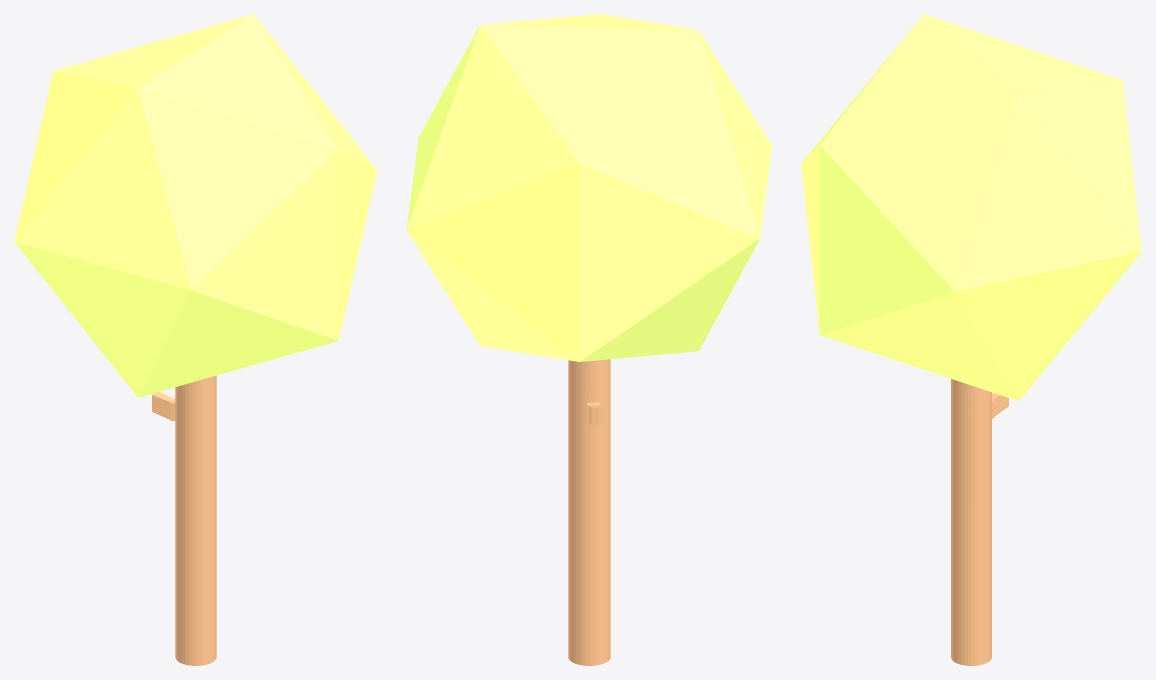
The model's file is tree.fbx.
3 renders of one model, left to right at view 1: azimuth 30°, elevation 25°; view 2: azimuth 150°, elevation 25°; view 3: azimuth 270°, elevation 25°, orthographic. The views are drawn at different scales.
Parts seen in each view (by area): view 1: Merge_0; view 2: Merge_0; view 3: Merge_0.
Part boxes in pixels (x1=…): Merge_0: x1=14, y1=14, x2=377, y2=665; Merge_0: x1=406, y1=14, x2=772, y2=665; Merge_0: x1=801, y1=14, x2=1141, y2=665.
Size of the model in its own units: 427 by 715 by 366.
